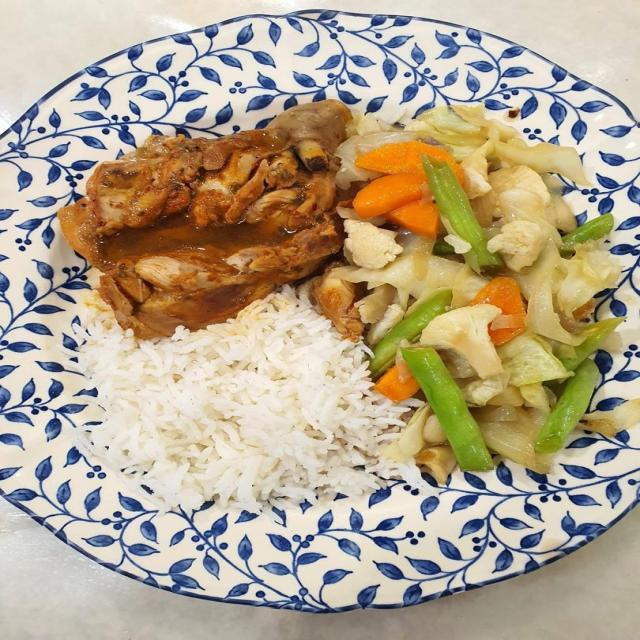Chicken: (56, 97, 354, 340)
Plate: (0, 14, 639, 610)
Rice: (78, 284, 424, 506)
Vegetables: (305, 105, 629, 482)
